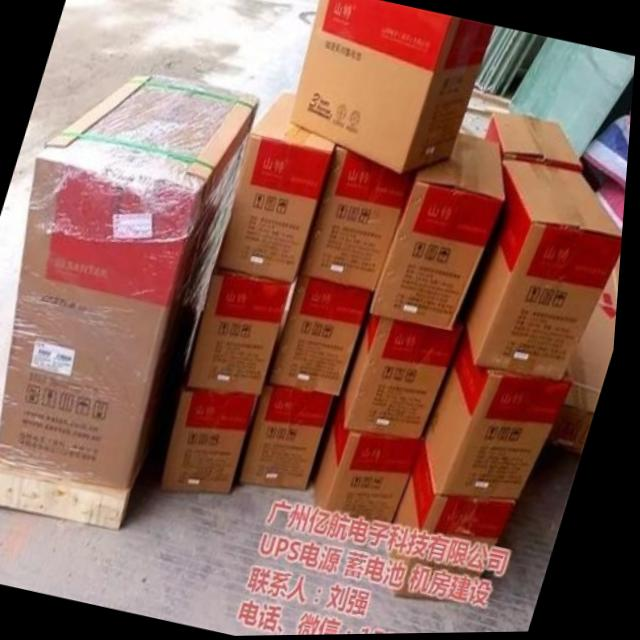box: (0, 70, 260, 529), (293, 0, 496, 177), (464, 164, 626, 381), (371, 136, 506, 330), (431, 330, 576, 505), (219, 93, 338, 284), (395, 440, 525, 605), (300, 143, 418, 290), (346, 303, 468, 442), (321, 397, 428, 539), (187, 261, 295, 397), (273, 276, 377, 399), (165, 384, 265, 498), (240, 385, 340, 491), (483, 112, 586, 170)
